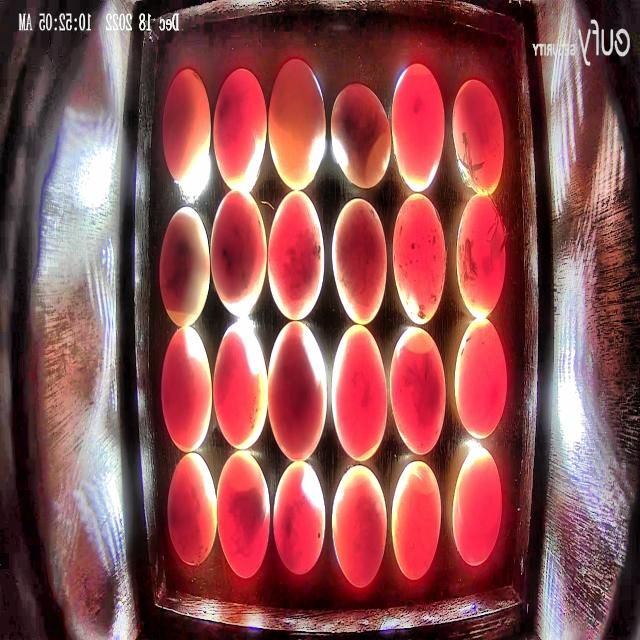FE: (267, 321, 328, 462), (332, 324, 388, 462), (268, 57, 326, 190), (267, 188, 324, 320), (332, 197, 389, 326), (210, 190, 267, 318), (389, 328, 446, 456), (392, 193, 447, 324), (391, 62, 446, 192), (216, 450, 271, 580), (212, 322, 267, 451), (332, 465, 387, 589), (213, 68, 267, 191), (330, 83, 391, 190), (454, 317, 507, 440), (161, 326, 212, 453), (456, 194, 507, 320), (159, 205, 211, 328), (452, 79, 506, 195), (391, 458, 442, 580), (452, 447, 502, 566), (273, 462, 326, 574), (162, 69, 212, 186), (168, 453, 218, 566)
